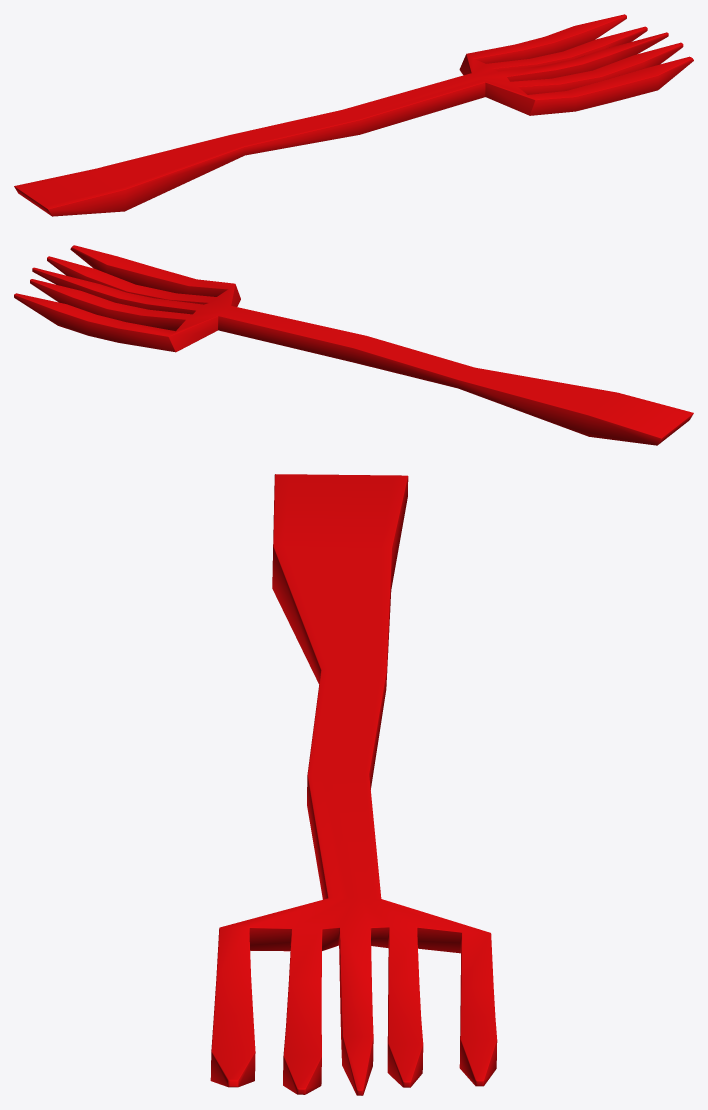
File: Garfo.fbx
3 renders of one model, top to bottom at view 1: azimuth 30°, elevation 25°; view 2: azimuth 150°, elevation 25°; view 3: azimuth 270°, elevation 25°, orthographic. The views are drawn at different scales.
Parts seen in each view (by area): view 1: Circle.004; view 2: Circle.004; view 3: Circle.004.
Part boxes in pixels (left/top/right/bottom): Circle.004: left=14, top=14, right=693, bottom=216; Circle.004: left=14, top=245, right=693, bottom=445; Circle.004: left=210, top=474, right=497, bottom=1095.
Size of the model in its own units: 383 by 16.34 by 74.19.
